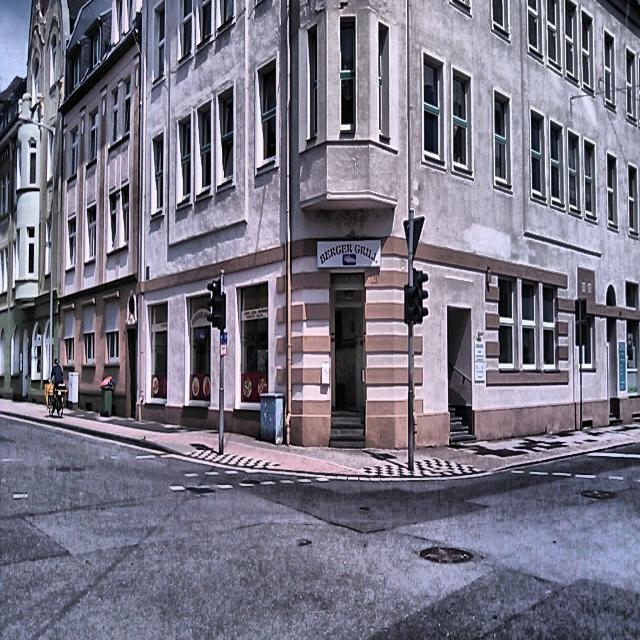escada: (330, 413, 366, 447), (450, 408, 474, 444)
